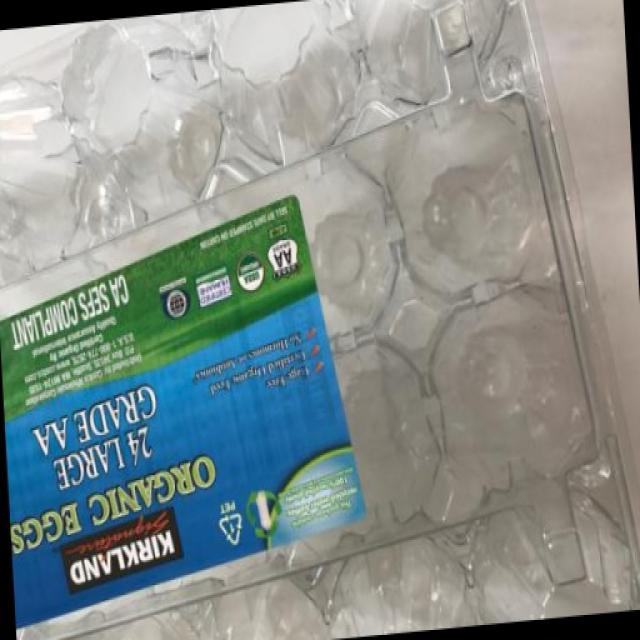plastico: (10, 90, 630, 601)
